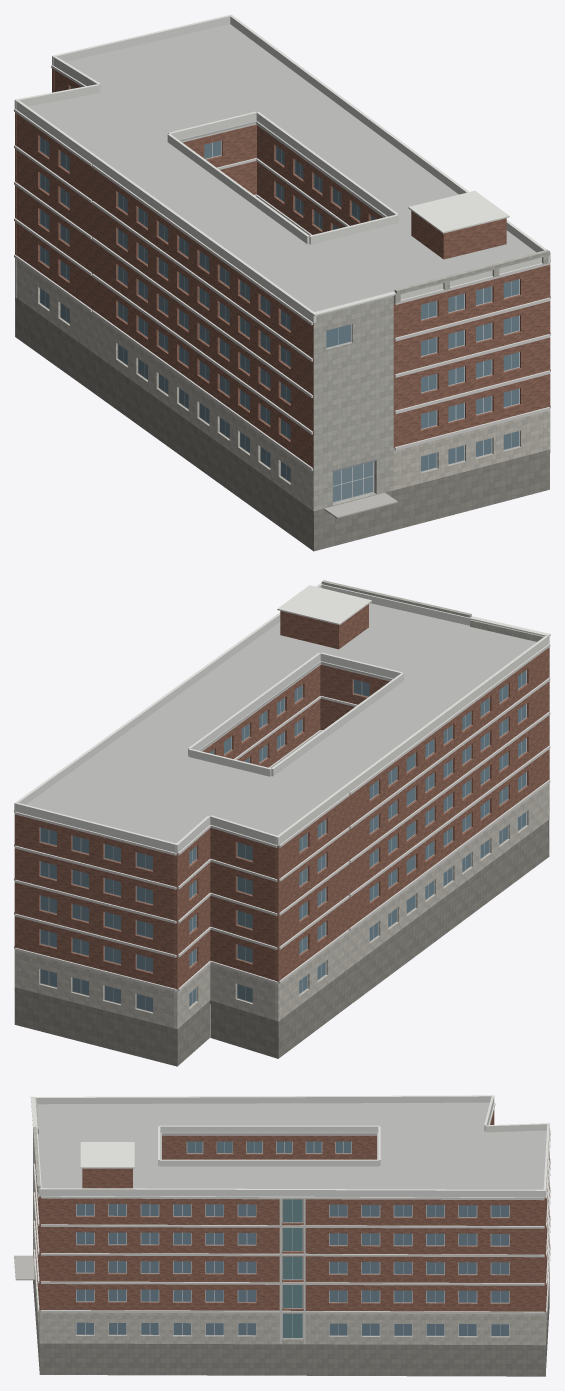
The picture shows the model from 3 angles, top to bottom: view 1: azimuth 30°, elevation 25°; view 2: azimuth 150°, elevation 25°; view 3: azimuth 270°, elevation 25°; orthographic projection. The views are drawn at different scales.
Parts seen in each view (by area): view 1: sinae__brick, sinae__roof, sinae__cap, sinae__stone, sinae__concrete, sinae__glass, sinae__skirt, sinae__trim, sinae__foundation, sinae__frame, sinae__plinth, sinae__doorglass (+1 smaller); view 2: sinae__brick, sinae__roof, sinae__stone, sinae__cap, sinae__glass, sinae__skirt, sinae__trim, sinae__foundation, sinae__frame, sinae__plinth, sinae__concrete; view 3: sinae__brick, sinae__roof, sinae__skirt, sinae__glass, sinae__cap, sinae__stone, sinae__trim, sinae__frame, sinae__curtainglass, sinae__plinth, sinae__foundation, sinae__concrete (+1 smaller).
Boxes of the visible parts, x1,y1,x2,y2 form: sinae__brick: [15, 68, 550, 468]; sinae__roof: [28, 24, 536, 311]; sinae__cap: [14, 14, 550, 323]; sinae__stone: [15, 258, 550, 510]; sinae__concrete: [313, 249, 549, 511]; sinae__glass: [40, 86, 519, 481]; sinae__skirt: [15, 303, 549, 551]; sinae__trim: [14, 65, 550, 470]; sinae__foundation: [15, 297, 549, 530]; sinae__frame: [40, 86, 519, 502]; sinae__plinth: [15, 297, 550, 514]; sinae__doorglass: [333, 461, 373, 502]; sinae__brick: [14, 604, 549, 989]; sinae__roof: [26, 603, 536, 843]; sinae__stone: [14, 783, 549, 1028]; sinae__cap: [14, 583, 550, 853]; sinae__glass: [40, 670, 526, 1011]; sinae__skirt: [14, 837, 549, 1066]; sinae__trim: [14, 643, 550, 991]; sinae__foundation: [14, 820, 549, 1033]; sinae__frame: [40, 670, 526, 1012]; sinae__plinth: [14, 820, 548, 1032]; sinae__concrete: [321, 580, 544, 641]; sinae__brick: [35, 1110, 549, 1311]; sinae__roof: [37, 1102, 546, 1189]; sinae__skirt: [33, 1280, 549, 1376]; sinae__glass: [76, 1141, 508, 1335]; sinae__cap: [30, 1095, 549, 1197]; sinae__stone: [35, 1268, 549, 1345]; sinae__trim: [33, 1102, 550, 1344]; sinae__frame: [76, 1141, 509, 1338]; sinae__curtainglass: [283, 1199, 302, 1337]; sinae__plinth: [34, 1280, 549, 1348]; sinae__foundation: [34, 1280, 545, 1348]; sinae__concrete: [33, 1098, 40, 1278].
Bounding box in the file's own units: 26.11 × 25.5 × 61.41.
15 materials, 6 textured.
